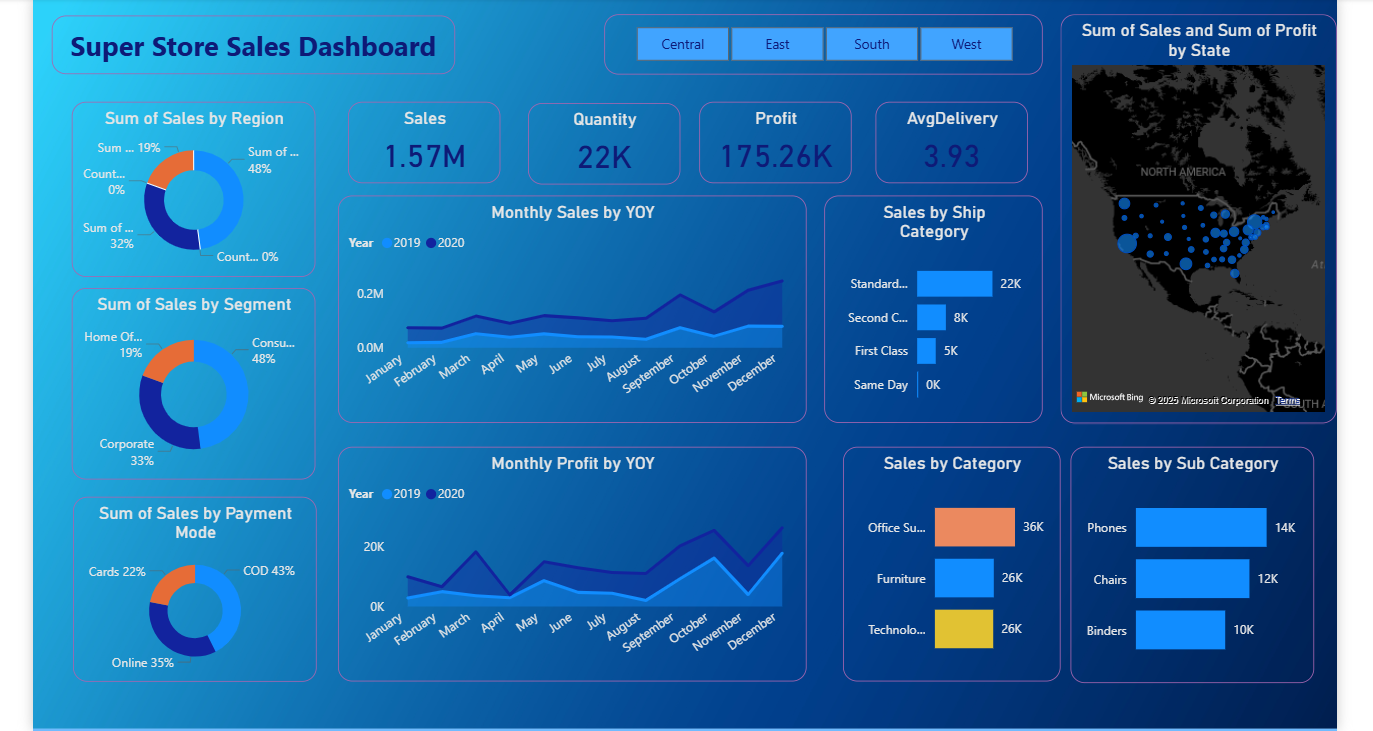

The page's visual inventory and layout, read from the dashboard file:
{"tool":"powerbi","page":{"name":"Page 1","canvas":[1280,720],"ordinal":0},"visuals":[{"type":"clusteredBarChart","title":" Sales by Category","fields":{"Category":["Sheet1.Category"],"Y":["Sum(Sheet1.Sales)"]},"box":[795.1,440.5,213.5,230.7],"z":0},{"type":"clusteredBarChart","title":" Sales by Sub Category","fields":{"Category":["Sheet1.Sub-Category"],"Y":["Sum(Sheet1.Sales)"]},"box":[1018.4,440.5,239.3,231.9],"z":1000},{"type":"clusteredBarChart","title":" Sales by Ship Category","fields":{"Category":["Sheet1.Ship Mode"],"Y":["Sum(Sheet1.Sales)"]},"box":[776.7,193.9,214.7,223.3],"z":2000},{"type":"stackedAreaChart","title":"Monthly Sales by YOY","fields":{"Y":["Sum(Sheet1 (2).Sales)"],"Category":["Sheet1 (2).Order Date.Variation.Date Hierarchy.Month","Sheet1 (2).Order Date.Variation.Date Hierarchy.Day"],"Series":["Sheet1 (2).Order Date.Variation.Date Hierarchy.Year"]},"box":[299.4,193.9,460.1,223.3],"z":3000},{"type":"stackedAreaChart","title":"Monthly Profit by YOY","fields":{"Category":["Sheet1 (2).Order Date.Variation.Date Hierarchy.Month","Sheet1 (2).Order Date.Variation.Date Hierarchy.Day"],"Series":["Sheet1 (2).Order Date.Variation.Date Hierarchy.Year"],"Y":["Sum(Sheet1 (2).Profit)"]},"box":[299.4,440.5,460.1,230.7],"z":4000},{"type":"map","fields":{"Category":["Sheet1 (2).State"],"Size":["Sum(Sheet1 (2).Sales)"]},"box":[1008.6,16,271.2,401.2],"z":5000},{"type":"donutChart","fields":{"Category":["Sheet1 (2).Segment"],"Y":["Sum(Sheet1 (2).Sales)"]},"box":[38,284.7,239.3,187.7],"z":6000},{"type":"donutChart","fields":{"Category":["Sheet1 (2).Payment Mode"],"Y":["Sum(Sheet1 (2).Sales)"]},"box":[39.3,489.6,239.3,181.6],"z":7000},{"type":"slicer","fields":{"Values":["Sheet1 (2).Region"]},"box":[560.7,16,430.7,58.9],"z":8000},{"type":"textbox","box":[18.4,17.2,396.3,57.7],"z":9000},{"type":"card","title":"Sales","fields":{"Values":["Sum(Sheet1 (2).Sales)"]},"box":[309.2,101.8,149.7,79.8],"z":10000},{"type":"card","title":"Quantity","fields":{"Values":["Sum(Sheet1 (2).Quantity)"]},"box":[485.9,103.1,149.7,79.8],"z":11000},{"type":"card","title":"Profit","fields":{"Values":["Sum(Sheet1 (2).Profit)"]},"box":[654,101.8,149.7,79.8],"z":12000},{"type":"card","title":"AvgDelivery","fields":{"Values":["Avg(Sheet1 (2).AvgDelivery)"]},"box":[827,101.8,149.7,79.8],"z":13000},{"type":"donutChart","title":"Sum of Sales by Region","fields":{"Category":["Sheet1 (2).Segment"],"Y":["Sum(Sheet1 (2).Sales)","CountNonNull(Sheet1 (2).Region)"]},"box":[38,101.8,239.3,171.8],"z":14000}]}

Visuals, with their boxes on the page's 1280x720 design canvas (x1, y1, x2, y2). These are canvas units, not pixel positions in the 1373x731 screenshot, which may show the page scaled, cropped or inside an application window:
" Sales by Category" clusteredBarChart: 795, 440, 1009, 671
" Sales by Sub Category" clusteredBarChart: 1018, 440, 1258, 672
" Sales by Ship Category" clusteredBarChart: 777, 194, 991, 417
"Monthly Sales by YOY" stackedAreaChart: 299, 194, 760, 417
"Monthly Profit by YOY" stackedAreaChart: 299, 440, 760, 671
map - Sheet1 (2).State x Sum(Sheet1 (2).Sales): 1009, 16, 1280, 417
donutChart - Sheet1 (2).Segment x Sum(Sheet1 (2).Sales): 38, 285, 277, 472
donutChart - Sheet1 (2).Payment Mode x Sum(Sheet1 (2).Sales): 39, 490, 279, 671
slicer - Sheet1 (2).Region: 561, 16, 991, 75
textbox: 18, 17, 415, 75
"Sales" card: 309, 102, 459, 182
"Quantity" card: 486, 103, 636, 183
"Profit" card: 654, 102, 804, 182
"AvgDelivery" card: 827, 102, 977, 182
"Sum of Sales by Region" donutChart: 38, 102, 277, 274
